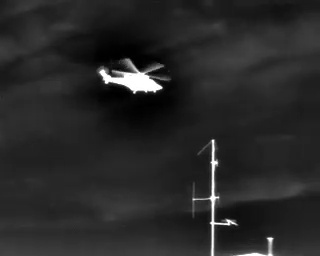HELICOPTER: (96, 52, 174, 101)
